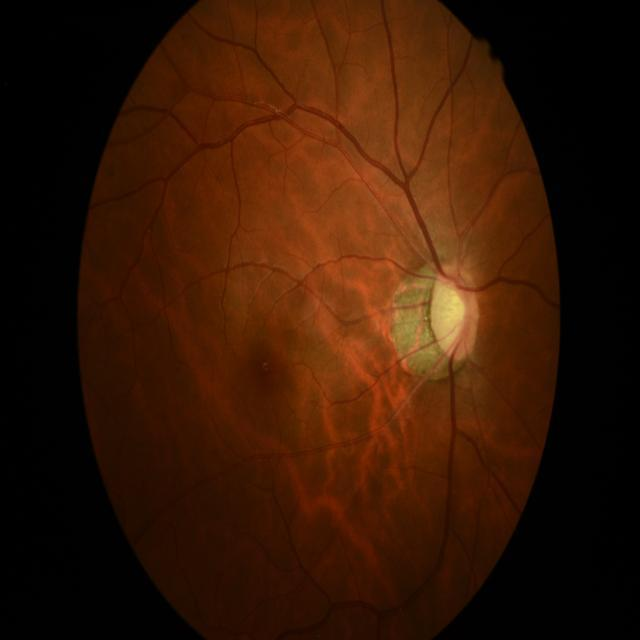cup: (433, 278, 467, 355)
disk: (431, 266, 479, 364)
